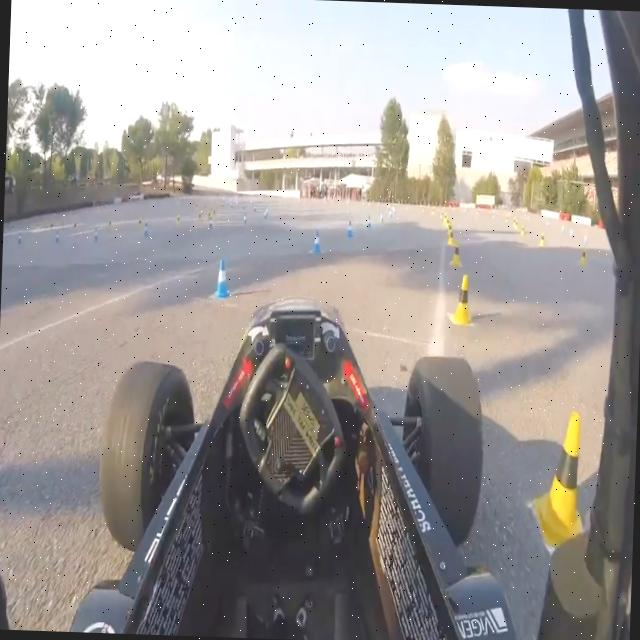blue_cone: (212, 258, 230, 302), (310, 229, 322, 254), (346, 216, 354, 238), (142, 221, 150, 239), (242, 212, 249, 228), (92, 227, 98, 244), (367, 212, 372, 230), (378, 210, 384, 224), (54, 230, 60, 243), (208, 216, 214, 228), (17, 232, 22, 245), (584, 233, 588, 245), (262, 210, 266, 220), (388, 208, 392, 218), (570, 226, 572, 238)
yellow_cone: (526, 399, 587, 546), (449, 268, 472, 326), (452, 240, 462, 266), (446, 230, 454, 247), (540, 231, 546, 245), (580, 250, 586, 264), (521, 223, 526, 236), (138, 217, 142, 230), (515, 218, 518, 230), (177, 214, 180, 226), (448, 223, 452, 231), (513, 216, 515, 224)
